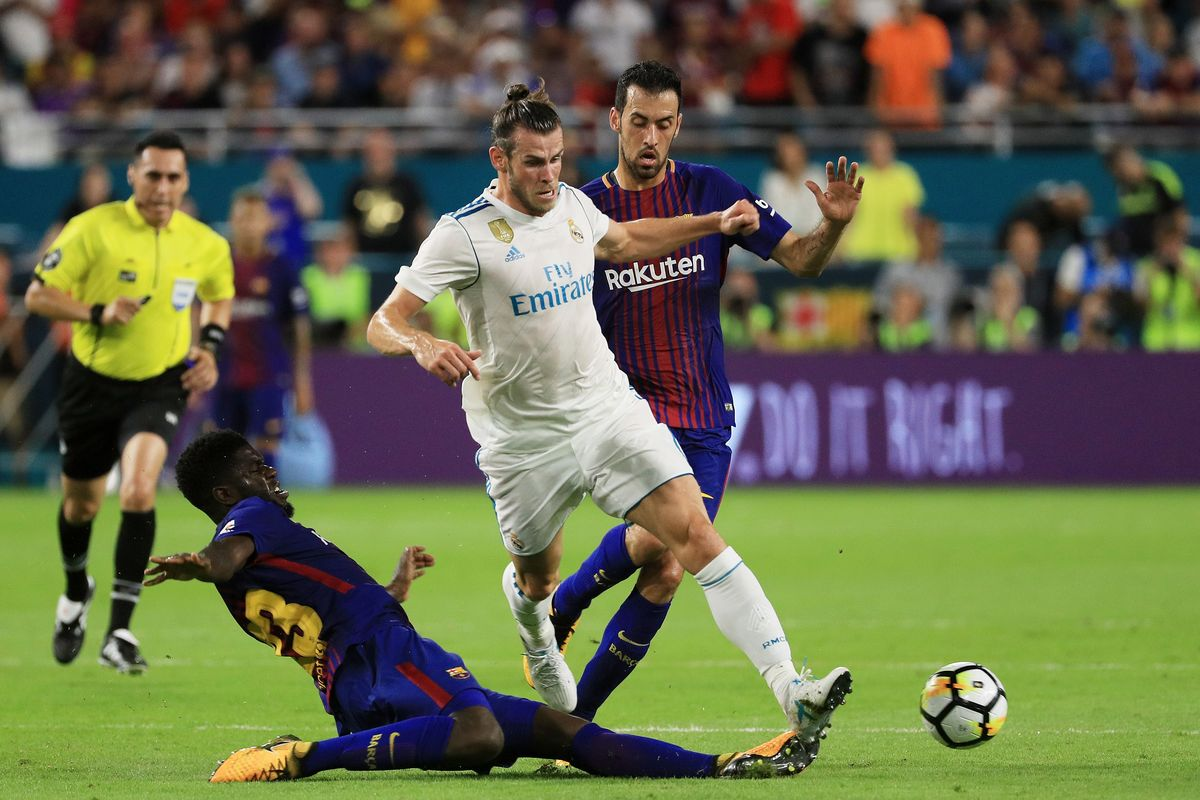referee: (22, 132, 236, 683)
soccer player: (371, 79, 851, 738), (152, 445, 821, 797), (579, 36, 850, 718)
soccerball: (918, 660, 1009, 751)
